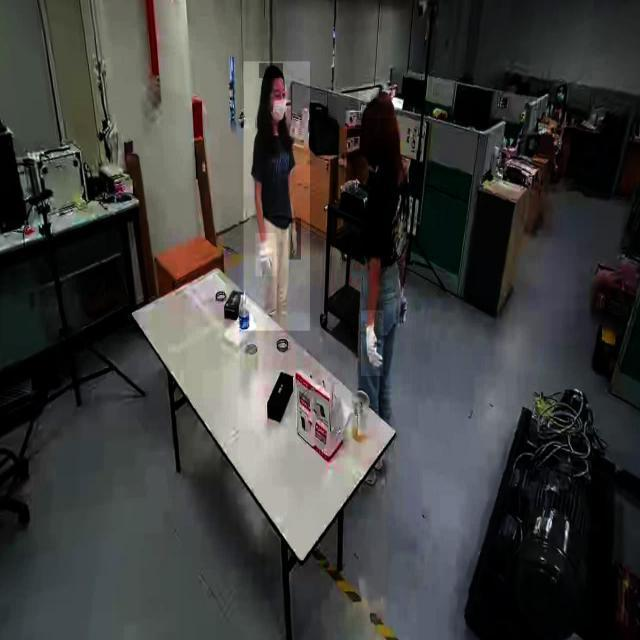gloves: (361, 310, 384, 377), (256, 232, 276, 278), (288, 218, 302, 260)
